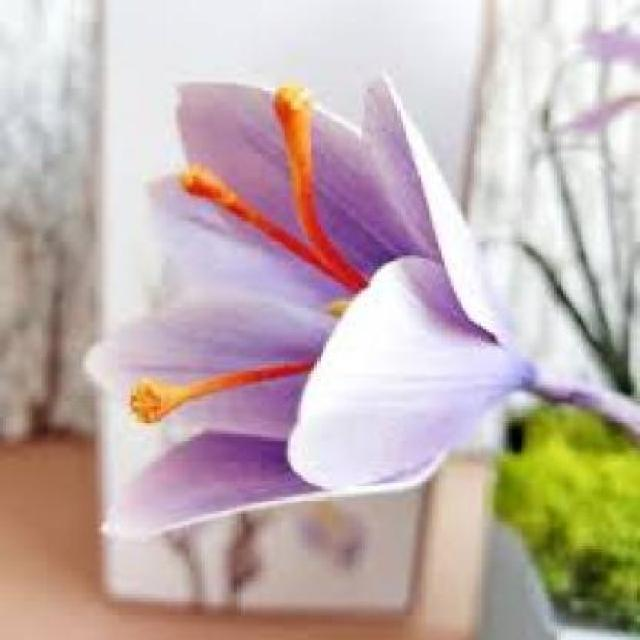saffron open: (94, 78, 640, 536)
